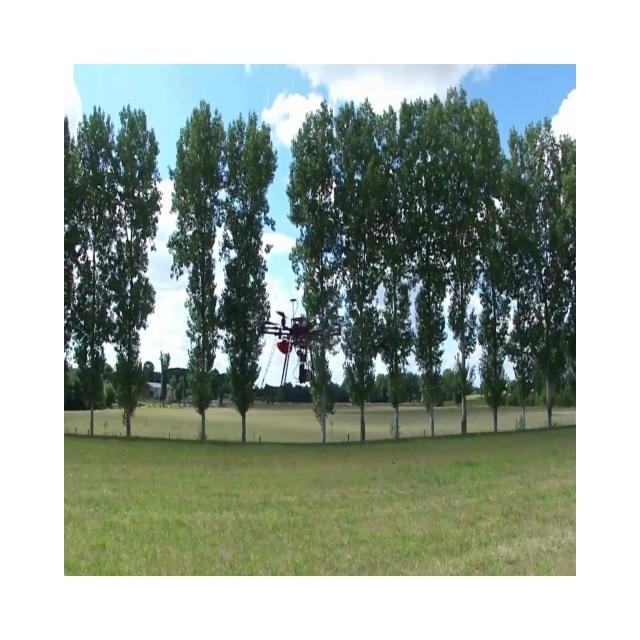drone: (246, 298, 344, 388)
